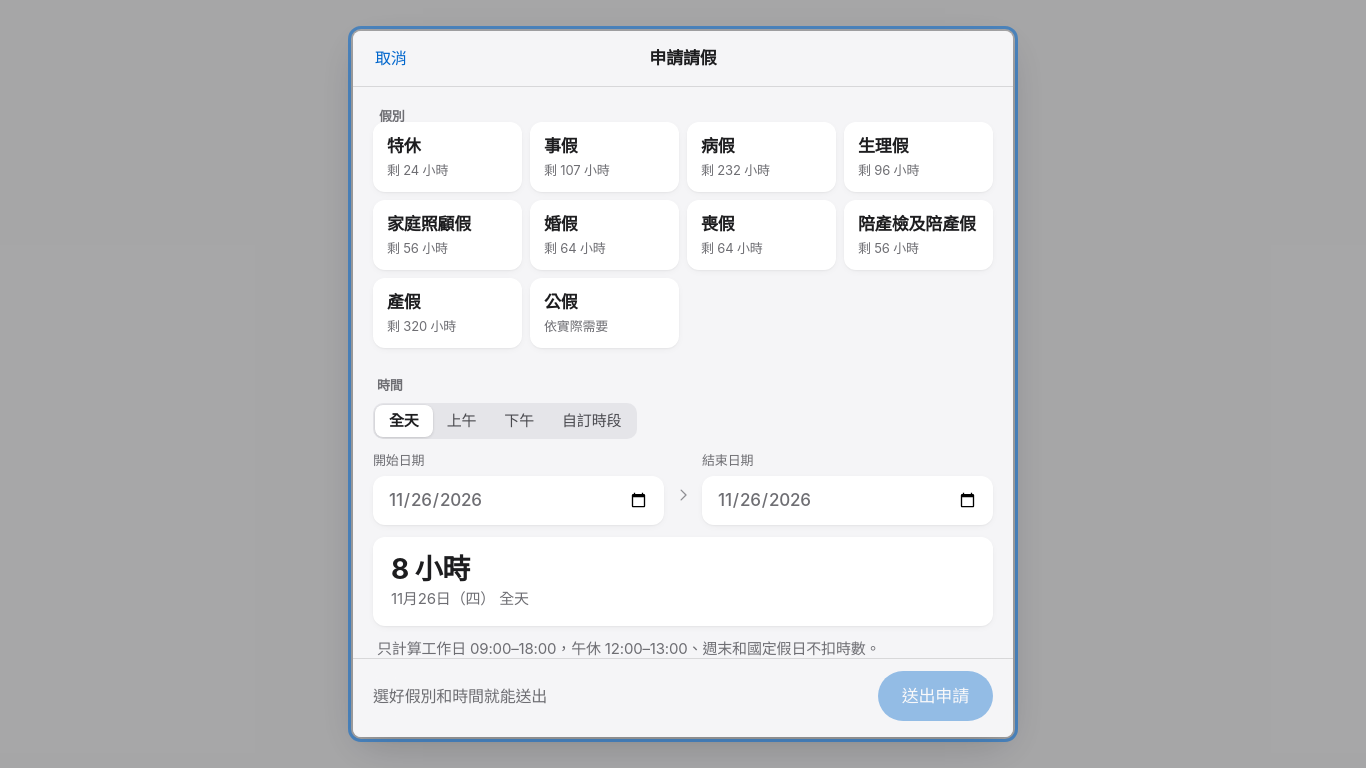
Test: ApplySheet › shows the two-level approval path for more than 3 days
Click the radio button labelled "事假 剩 107 小時" at (604, 157), box [530,122,679,192]
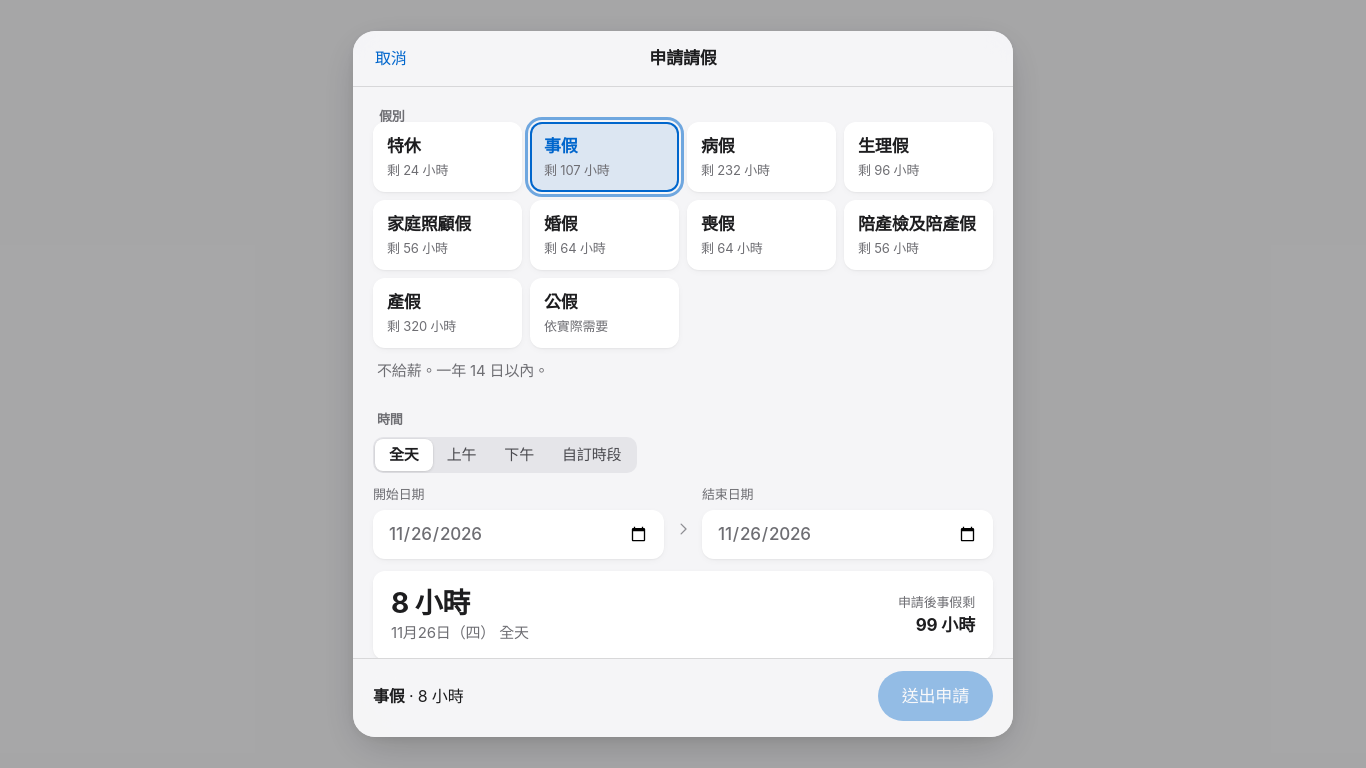
Type "2030-01-07" into the date field labelled "開始日期" at (518, 535), box [373,510,664,559]
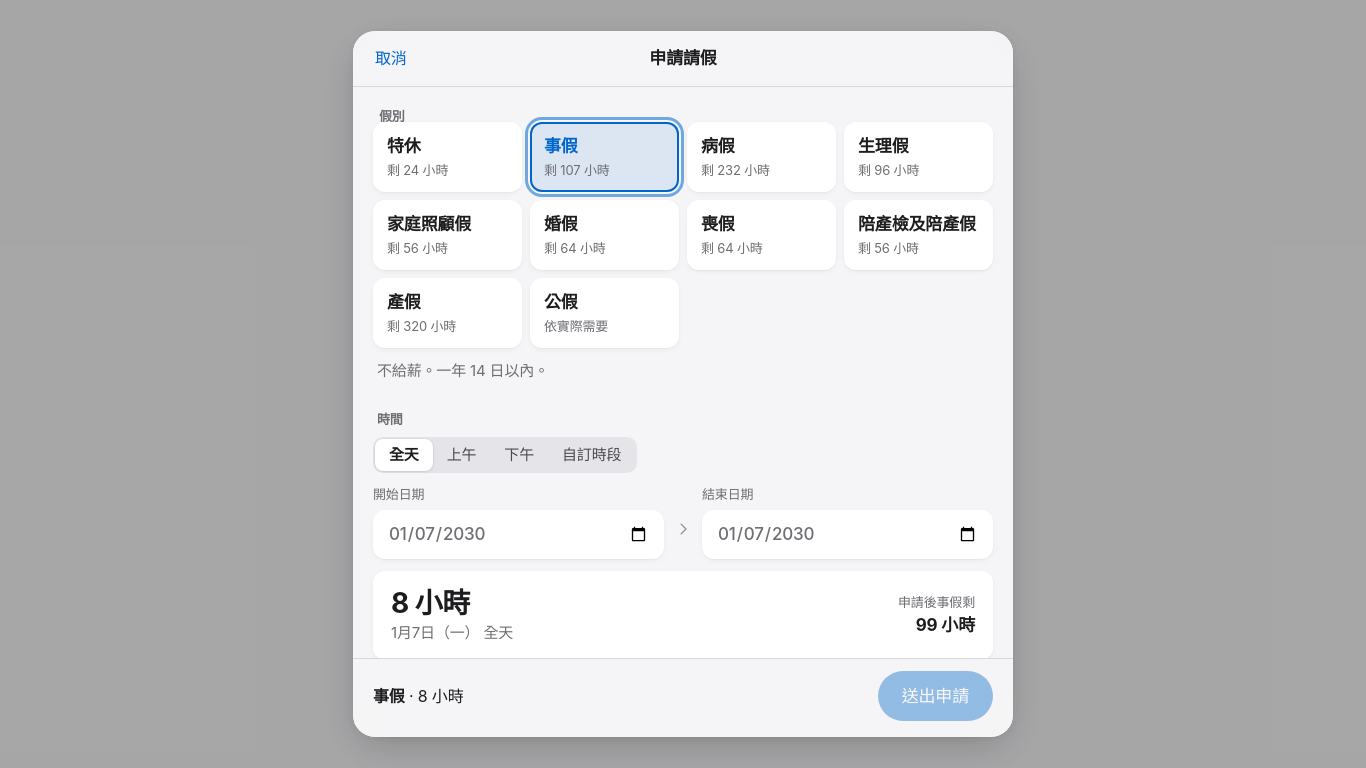
Type "2030-01-10" into the date field labelled "結束日期" at (848, 535), box [702,510,993,559]
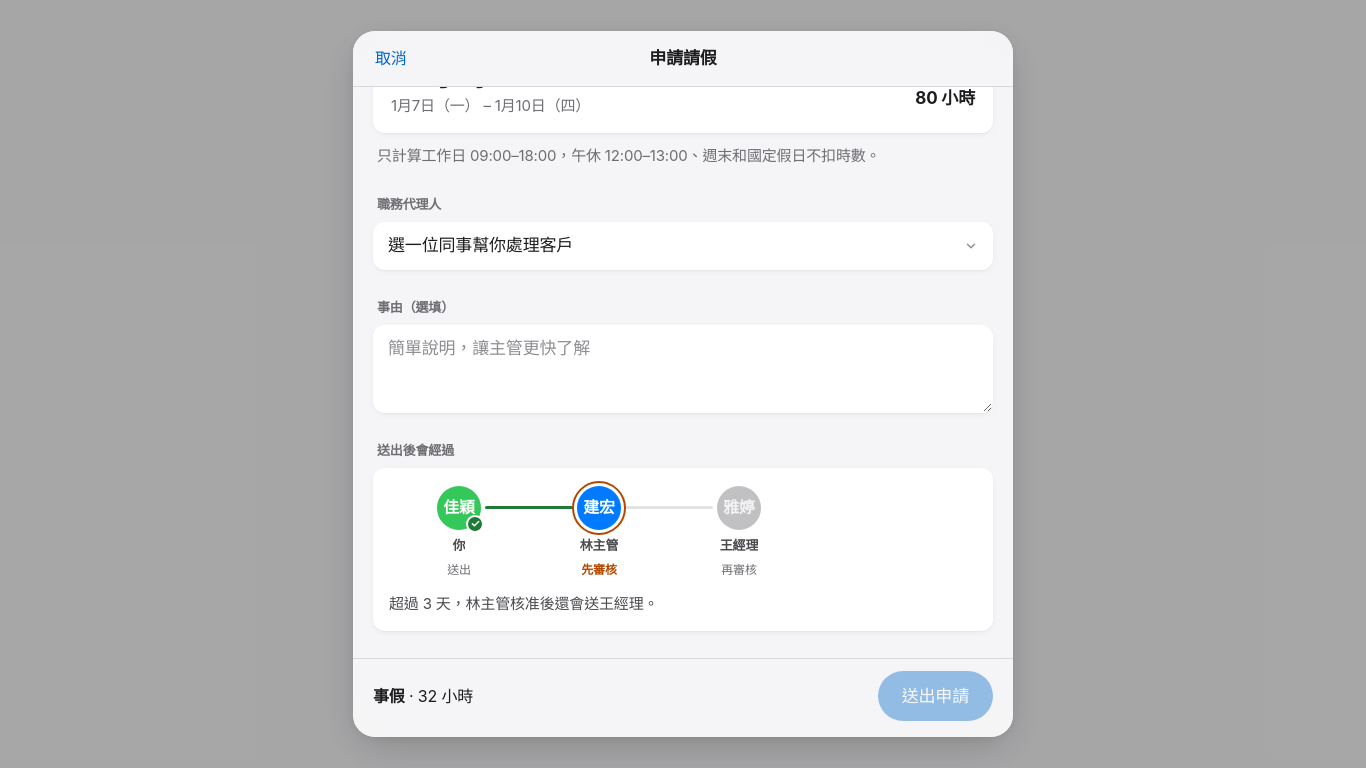
Now the list named "簽核路徑" shows "林主管", box [580,537,618,553]
Now the list named "簽核路徑" shows "王經理", box [720,537,758,553]
